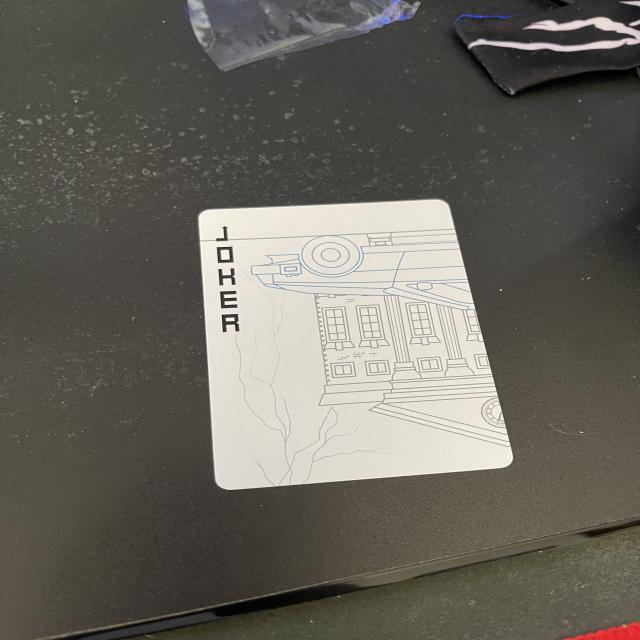Joker: (94, 170, 555, 526)
